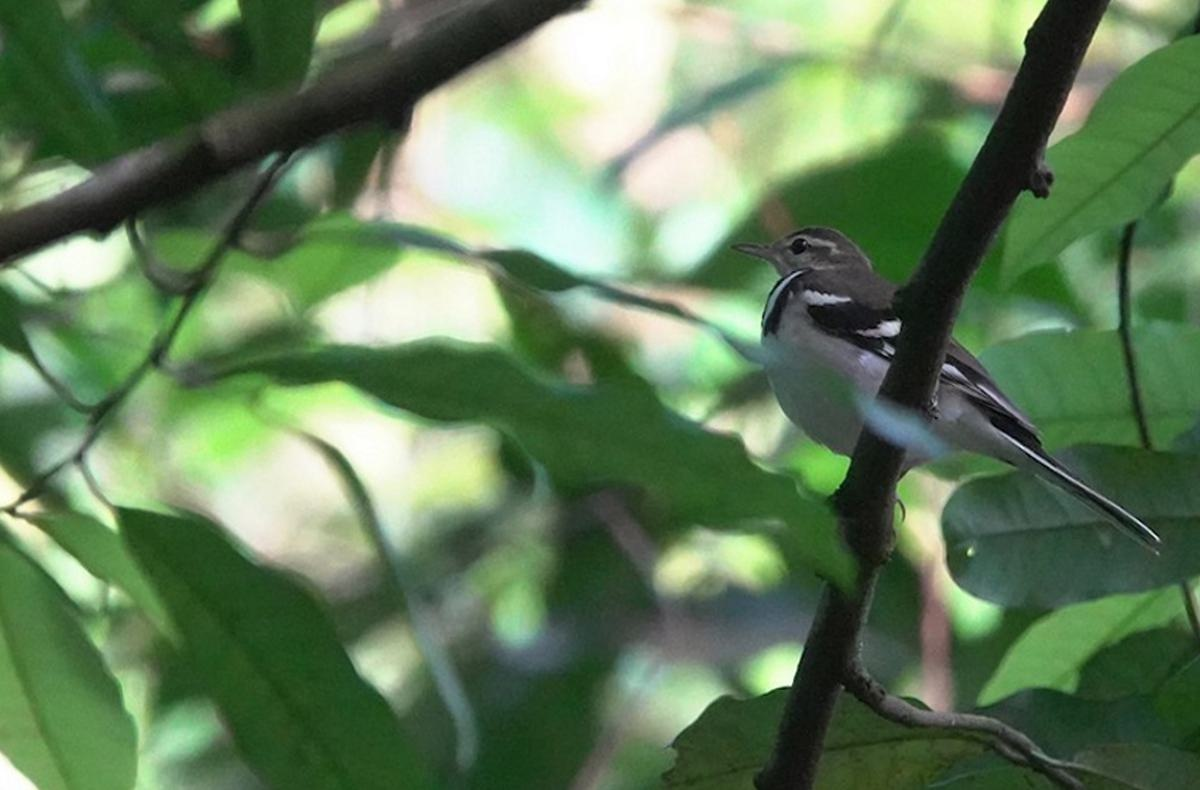wagtail: (733, 207, 1071, 510)
